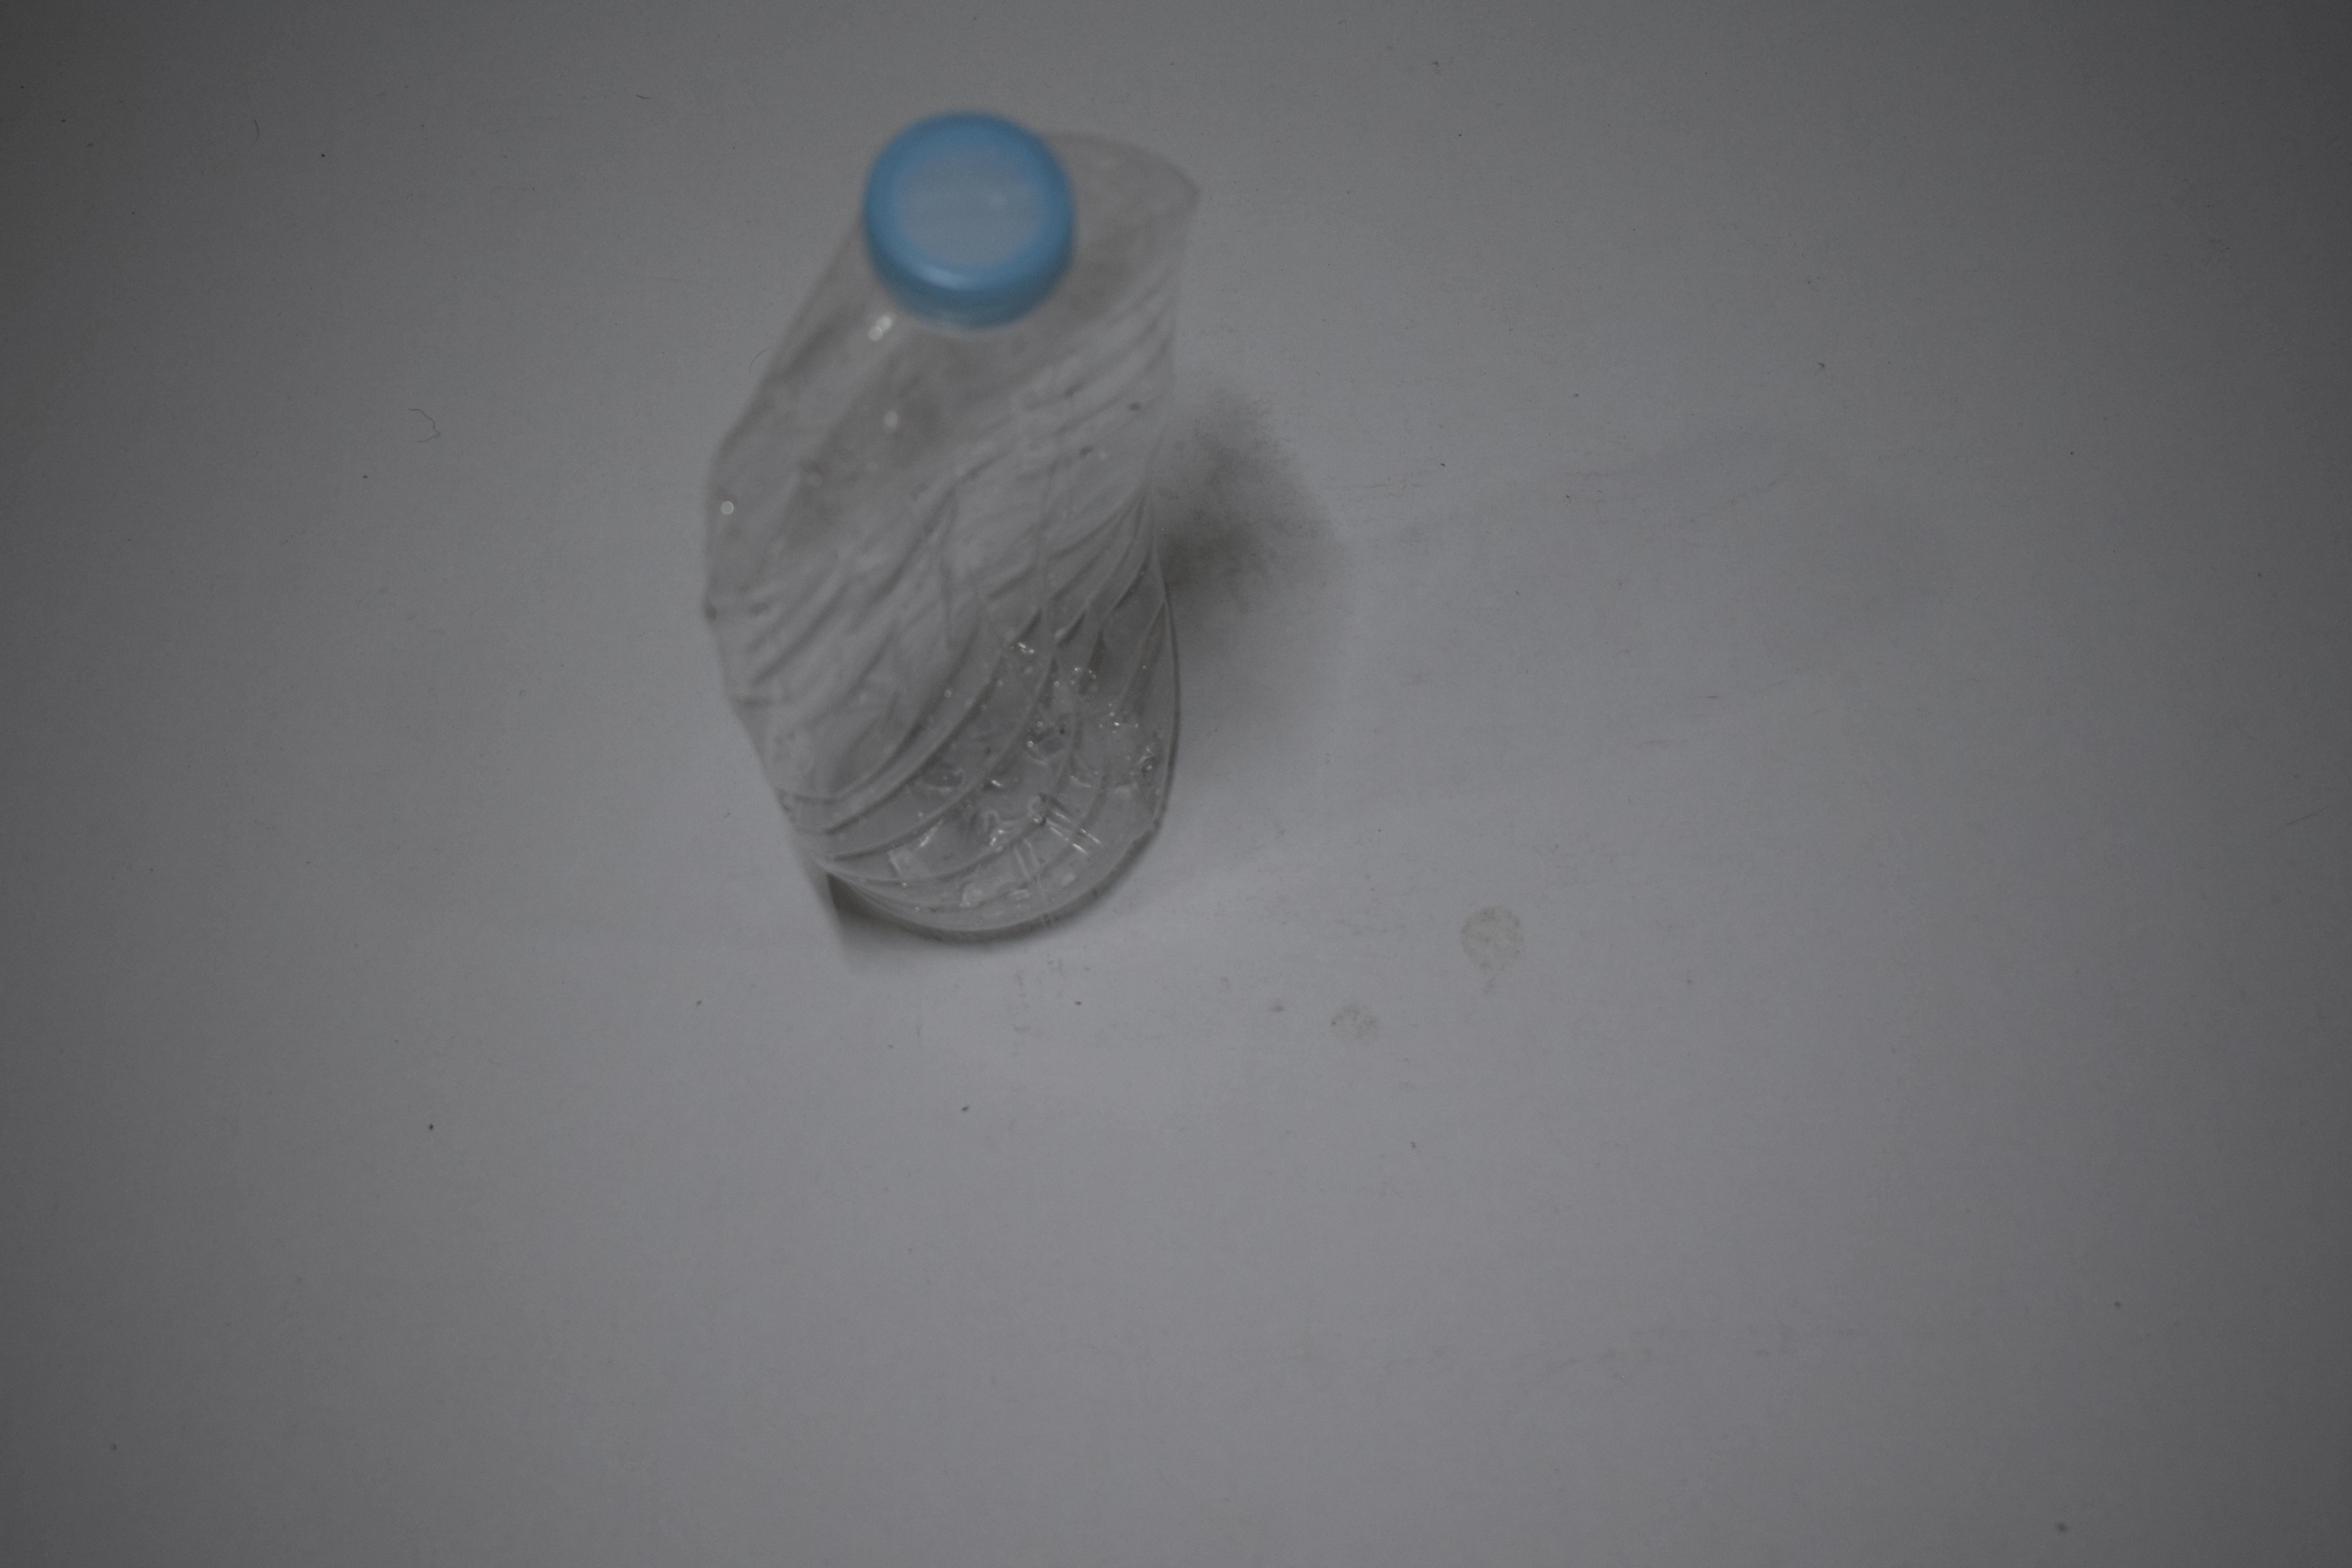bottle: (690, 490, 1208, 548)
